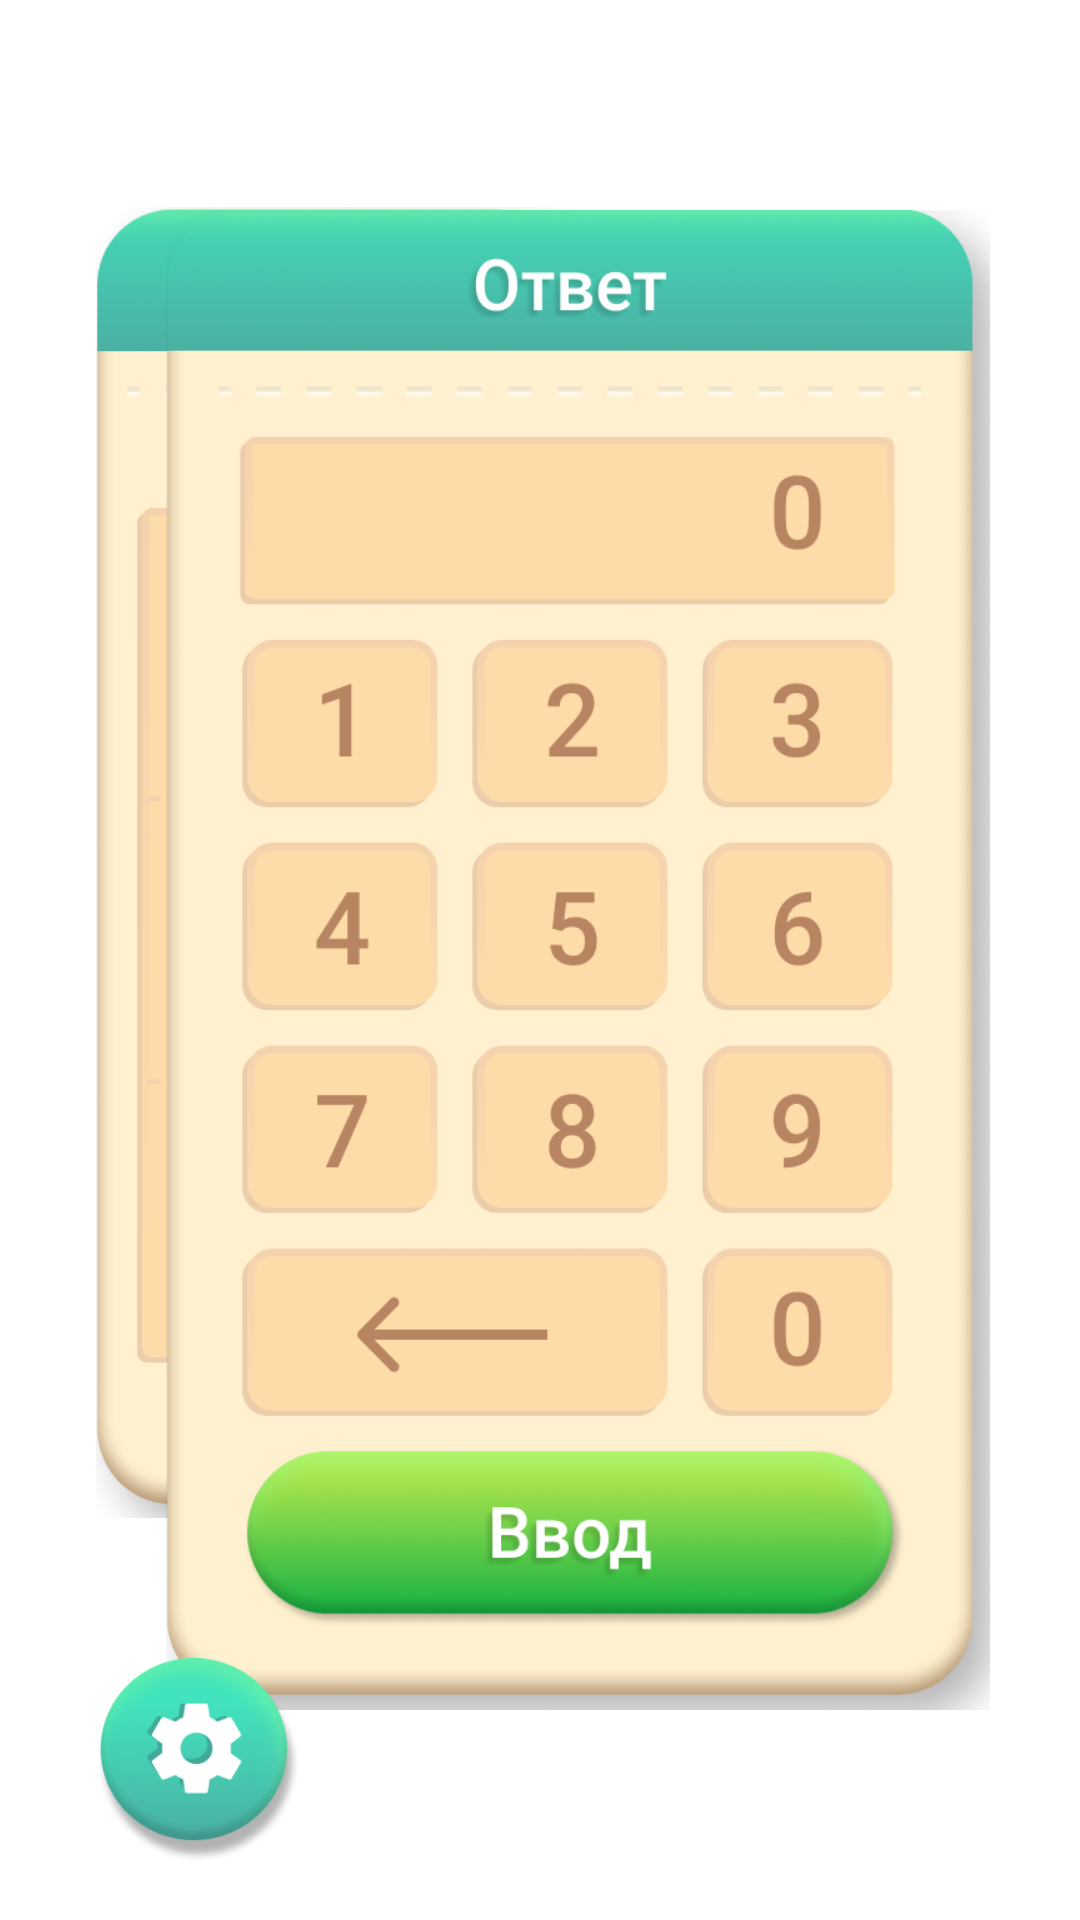

Named icons in this screenshot (1080×1920) and their centers, [x,y]:
settings round: [200,1757]
